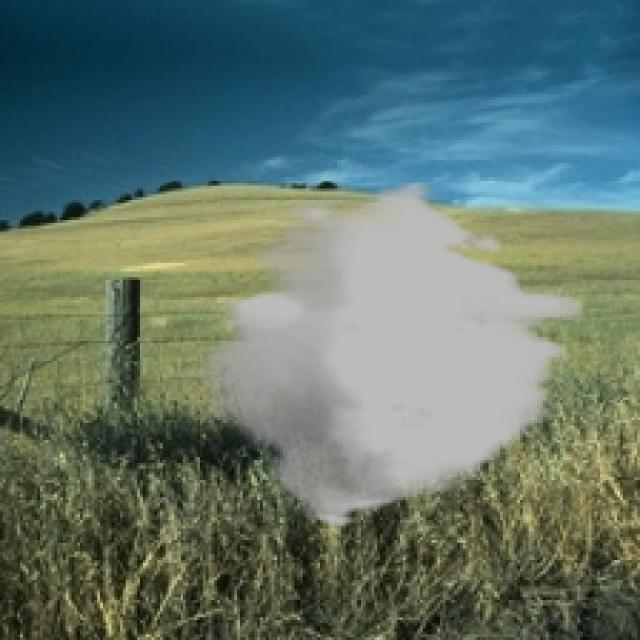Smoke: (200, 180, 583, 529)
